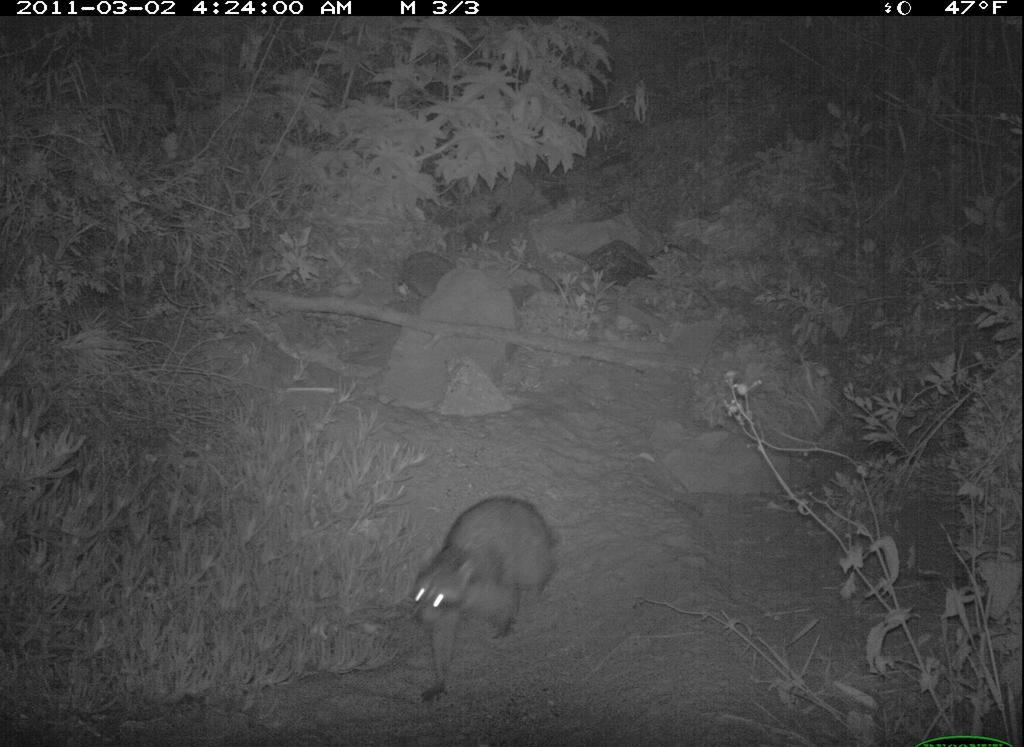raccoon: (395, 483, 575, 725)
